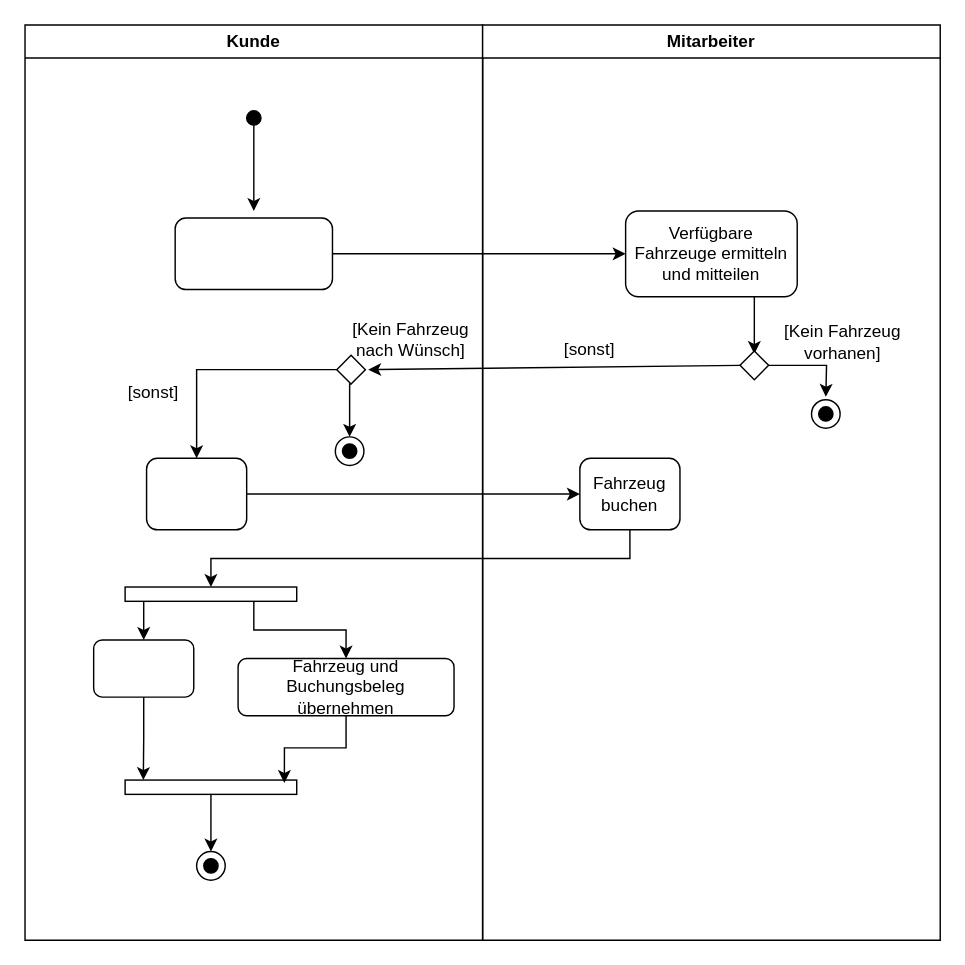
This 965x965 diagram has some shape labels left out. Each missing label, with the centre of its shape:
Buchung zahlen: the point at 143,667
Fahrzeugbuchung anfragen: the point at 253,253
Farhzeug aussuchen: the point at 196,493
